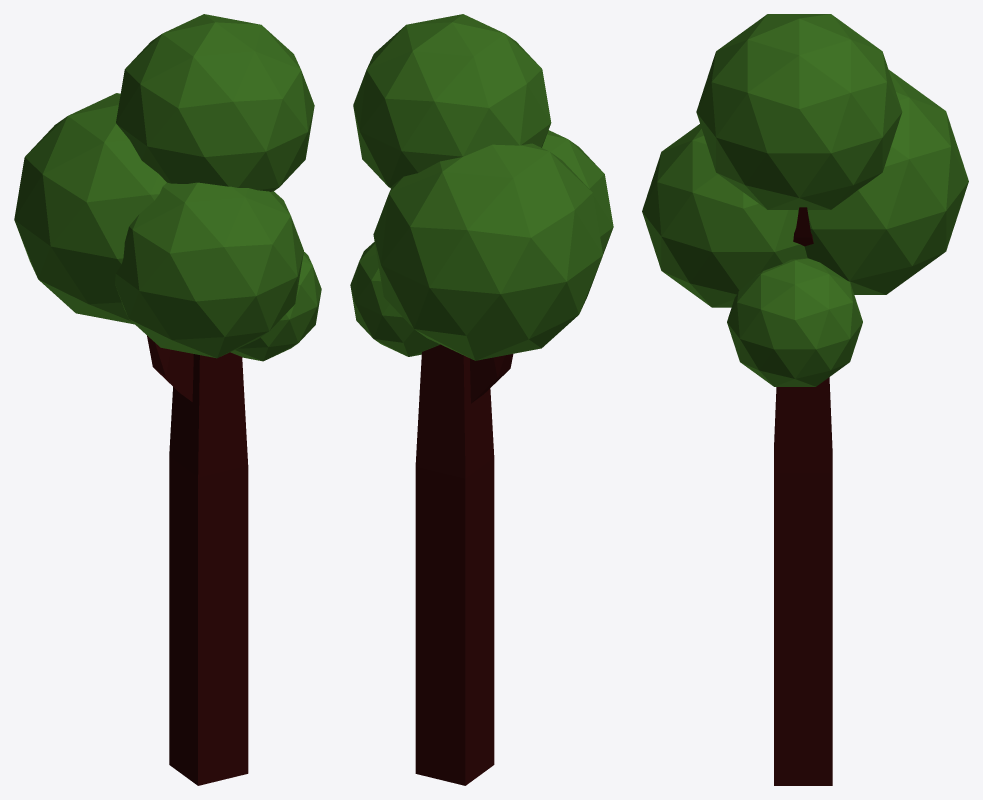
File: tree_1.glb
3 views of the same model, side by side, from view 1: azimuth 30°, elevation 25°; view 2: azimuth 150°, elevation 25°; view 3: azimuth 270°, elevation 25° (orthographic).
Parts seen in each view (by area): view 1: Icosphere.003; view 2: Icosphere.003; view 3: Icosphere.003.
Part boxes in pixels (x1,y1,x2,y2): Icosphere.003: (14,14,321,785); Icosphere.003: (350,14,613,785); Icosphere.003: (642,14,968,785).
Size of the model in its own units: 7.69 by 21.79 by 8.53.
Materials: 1 (1 with a texture image).
